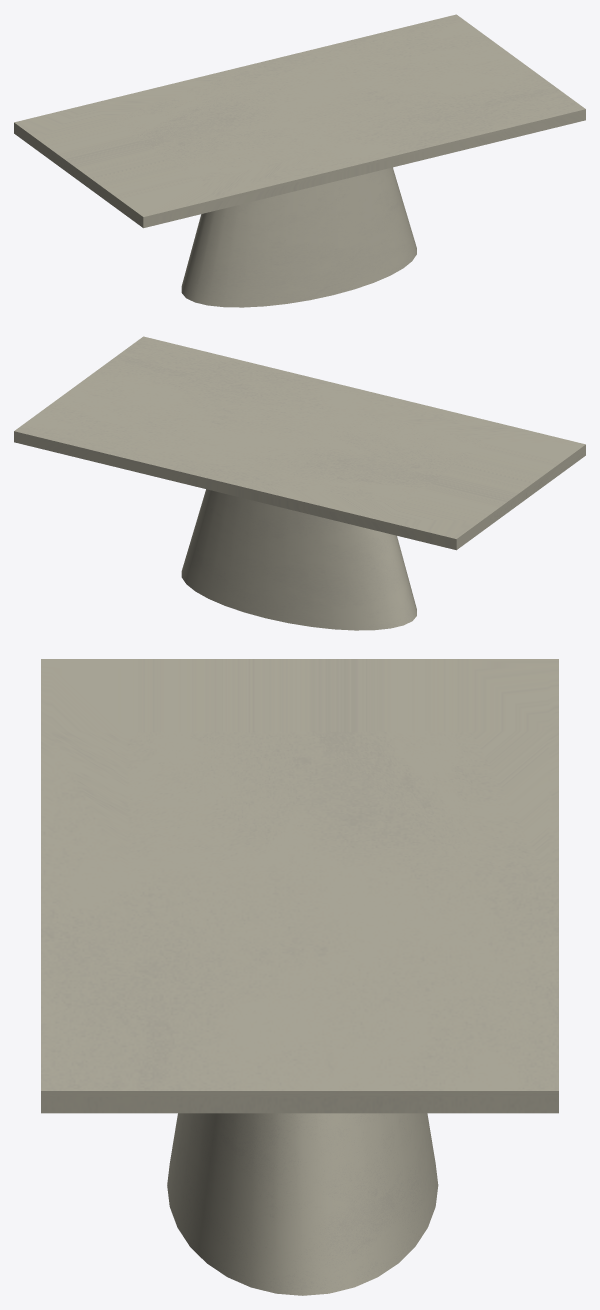
File: silk_recta_standard_eqone.glb
3 renders of one model, top to bottom at view 1: azimuth 30°, elevation 25°; view 2: azimuth 150°, elevation 25°; view 3: azimuth 270°, elevation 25°, orthographic. The views are drawn at different scales.
Visible parts, largest first — view 1: silk_rectastandard_eqone; view 2: silk_rectastandard_eqone; view 3: silk_rectastandard_eqone.
Boxes of the visible parts, x1=… form: silk_rectastandard_eqone: x1=14, y1=14, x2=585, y2=307; silk_rectastandard_eqone: x1=14, y1=336, x2=585, y2=630; silk_rectastandard_eqone: x1=41, y1=659, x2=558, y2=1295.
Size of the model in its own units: 7.5 by 2.51 by 3.8.
Materials: 1 (1 with a texture image).
